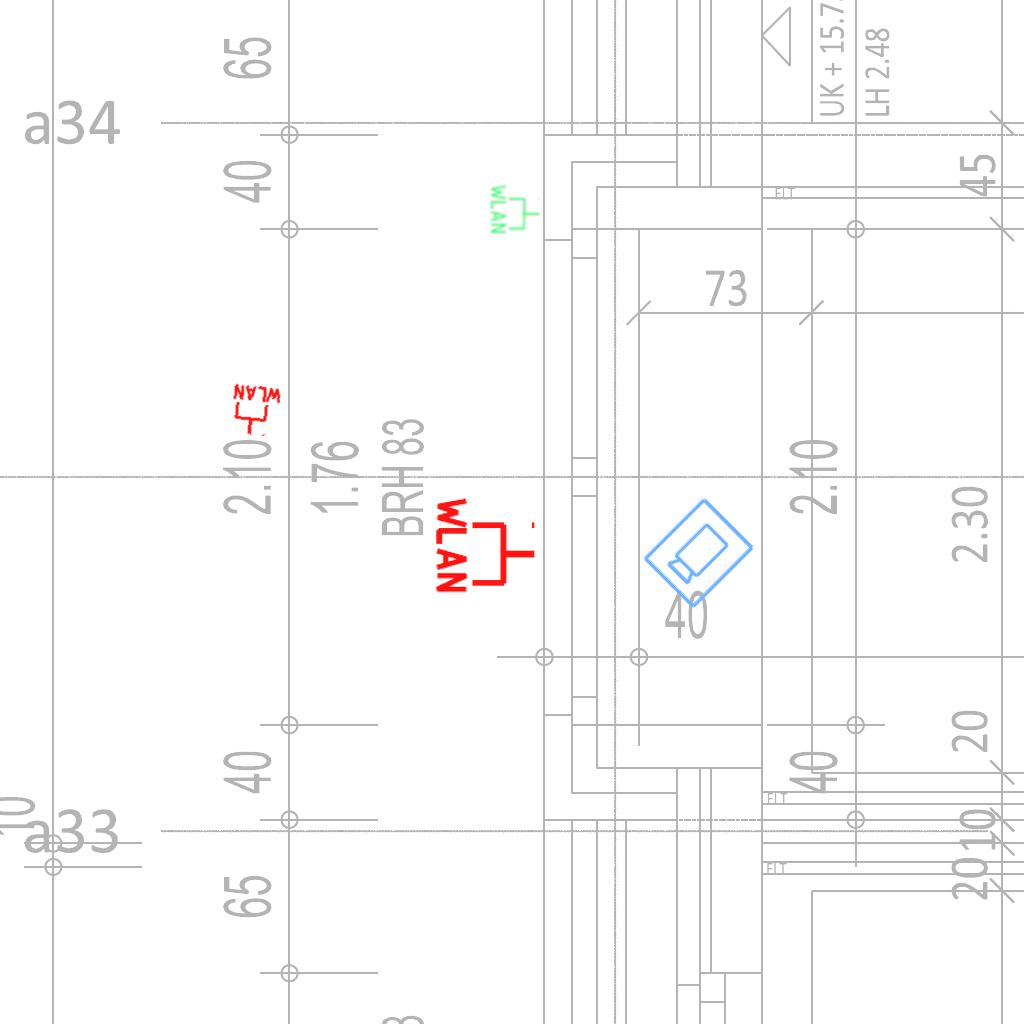KFO_Kamera_mit_Festobjektiv: (639, 493, 758, 612)
WLAN: (434, 493, 539, 597), (227, 382, 285, 440), (489, 183, 541, 235)
